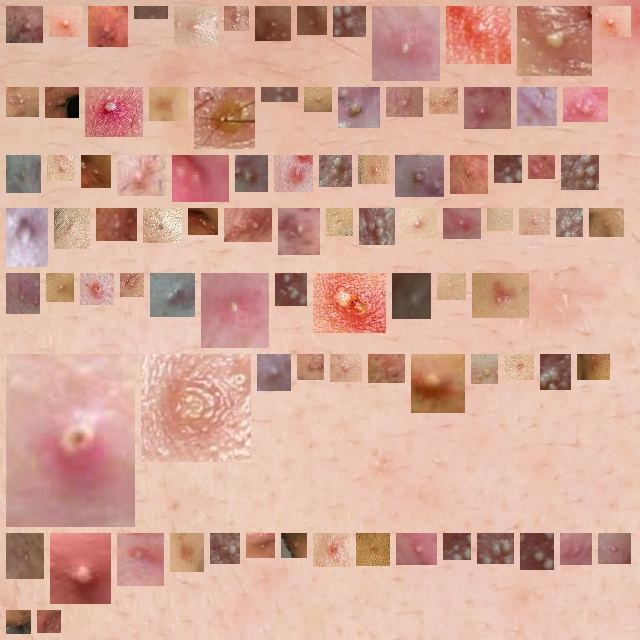pustule: (14, 362, 127, 519), (149, 362, 243, 454), (525, 14, 584, 68), (380, 14, 432, 73), (209, 281, 261, 340), (321, 281, 378, 325), (58, 541, 103, 596), (202, 95, 247, 141), (454, 14, 503, 56), (419, 362, 457, 405), (93, 95, 135, 129), (180, 163, 221, 194), (480, 281, 521, 310), (125, 541, 156, 578), (14, 216, 40, 259), (403, 163, 436, 189), (125, 163, 158, 188), (158, 281, 187, 309), (472, 95, 503, 121), (286, 216, 312, 247), (400, 281, 423, 311), (182, 14, 210, 38), (14, 541, 36, 571), (346, 95, 372, 120), (96, 14, 120, 39), (232, 216, 264, 234), (525, 95, 549, 118), (571, 95, 600, 114), (458, 163, 480, 186), (62, 216, 82, 241), (282, 163, 305, 184), (14, 281, 32, 306), (14, 14, 35, 35), (151, 216, 174, 235), (104, 216, 129, 233), (367, 216, 387, 237), (14, 163, 33, 185), (569, 163, 591, 182), (157, 95, 180, 113), (178, 541, 196, 564), (404, 541, 429, 557), (263, 14, 283, 33), (265, 362, 283, 383), (321, 541, 342, 559), (528, 541, 546, 562), (243, 163, 260, 184), (451, 216, 473, 231), (485, 541, 506, 556), (364, 541, 382, 558), (409, 216, 429, 231), (548, 362, 563, 382), (394, 95, 415, 109), (88, 281, 106, 297), (376, 362, 397, 375), (327, 163, 344, 179), (283, 281, 299, 298), (53, 95, 71, 110), (568, 541, 584, 557), (57, 14, 74, 29), (341, 14, 358, 29), (606, 14, 623, 29), (606, 541, 623, 556), (597, 216, 616, 229), (14, 95, 31, 109), (89, 163, 103, 180), (218, 541, 232, 556), (366, 163, 381, 176), (338, 362, 354, 374), (305, 14, 319, 27), (585, 362, 602, 372), (527, 216, 542, 227), (54, 281, 66, 294), (196, 216, 210, 227), (479, 362, 490, 376), (502, 163, 514, 175), (437, 95, 450, 106), (564, 216, 575, 229), (445, 281, 458, 292), (512, 362, 526, 372), (334, 216, 345, 228), (451, 541, 463, 552), (55, 163, 67, 173), (254, 541, 267, 550), (305, 362, 316, 372), (312, 95, 324, 104), (289, 541, 299, 550), (536, 163, 547, 171), (232, 14, 241, 23), (14, 618, 23, 626), (495, 216, 505, 223), (128, 281, 136, 289), (45, 618, 53, 625)
